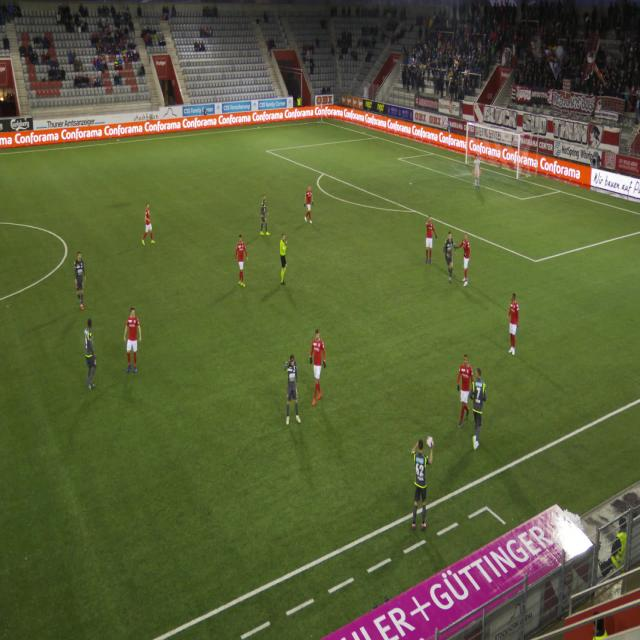Ball: (426, 428, 436, 458)
Player: (305, 318, 329, 412), (280, 345, 306, 427), (121, 302, 146, 383), (411, 436, 432, 528), (470, 368, 491, 457), (68, 240, 92, 314), (81, 314, 101, 394), (456, 348, 475, 428), (231, 228, 253, 294), (504, 287, 522, 359), (419, 211, 440, 266), (255, 186, 274, 246), (140, 188, 157, 254), (297, 178, 317, 230), (441, 229, 458, 284), (460, 230, 474, 288), (470, 153, 485, 196)
Referee: (275, 224, 295, 293)
